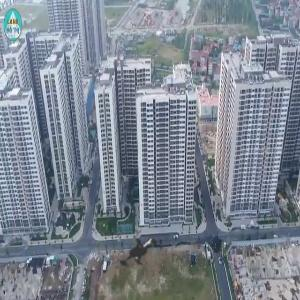drone: (100, 212, 186, 298)
